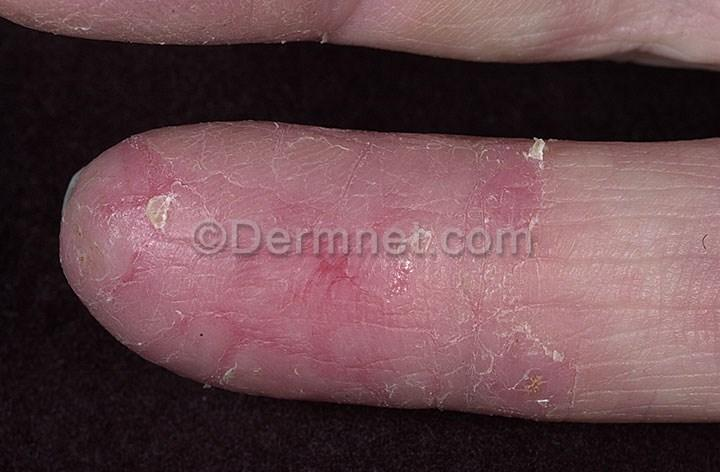Eczema: (413, 250, 582, 412), (253, 251, 424, 393), (111, 242, 244, 377), (129, 123, 287, 228), (287, 141, 431, 228), (440, 136, 560, 231), (53, 1, 346, 35), (48, 155, 126, 272)
